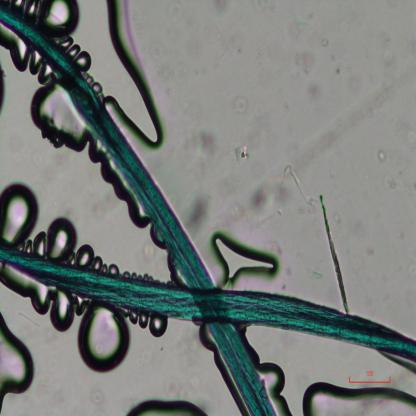Air bubble: (102, 2, 167, 152), (300, 378, 416, 415), (32, 83, 88, 156), (0, 311, 37, 413), (78, 301, 131, 371), (214, 233, 279, 289), (0, 180, 42, 248), (0, 266, 52, 317), (0, 26, 32, 77), (46, 218, 77, 268), (126, 396, 206, 415), (38, 1, 79, 38), (49, 286, 77, 334), (268, 361, 292, 415), (149, 314, 169, 339), (75, 47, 93, 73), (77, 242, 94, 268), (32, 229, 46, 260), (107, 262, 121, 278), (138, 312, 150, 330), (69, 44, 81, 60), (93, 256, 104, 272)
Background material: (319, 192, 351, 314), (148, 34, 197, 99), (362, 31, 401, 110), (290, 16, 336, 76), (249, 171, 294, 214), (184, 191, 212, 235), (198, 126, 218, 157), (30, 53, 49, 83), (310, 80, 328, 109), (232, 138, 250, 166), (233, 94, 249, 115), (377, 144, 390, 165), (214, 0, 232, 13)
Cellulose filter fibre: (217, 195, 244, 233)
Microfibre: (0, 9, 276, 414), (0, 240, 416, 362)
